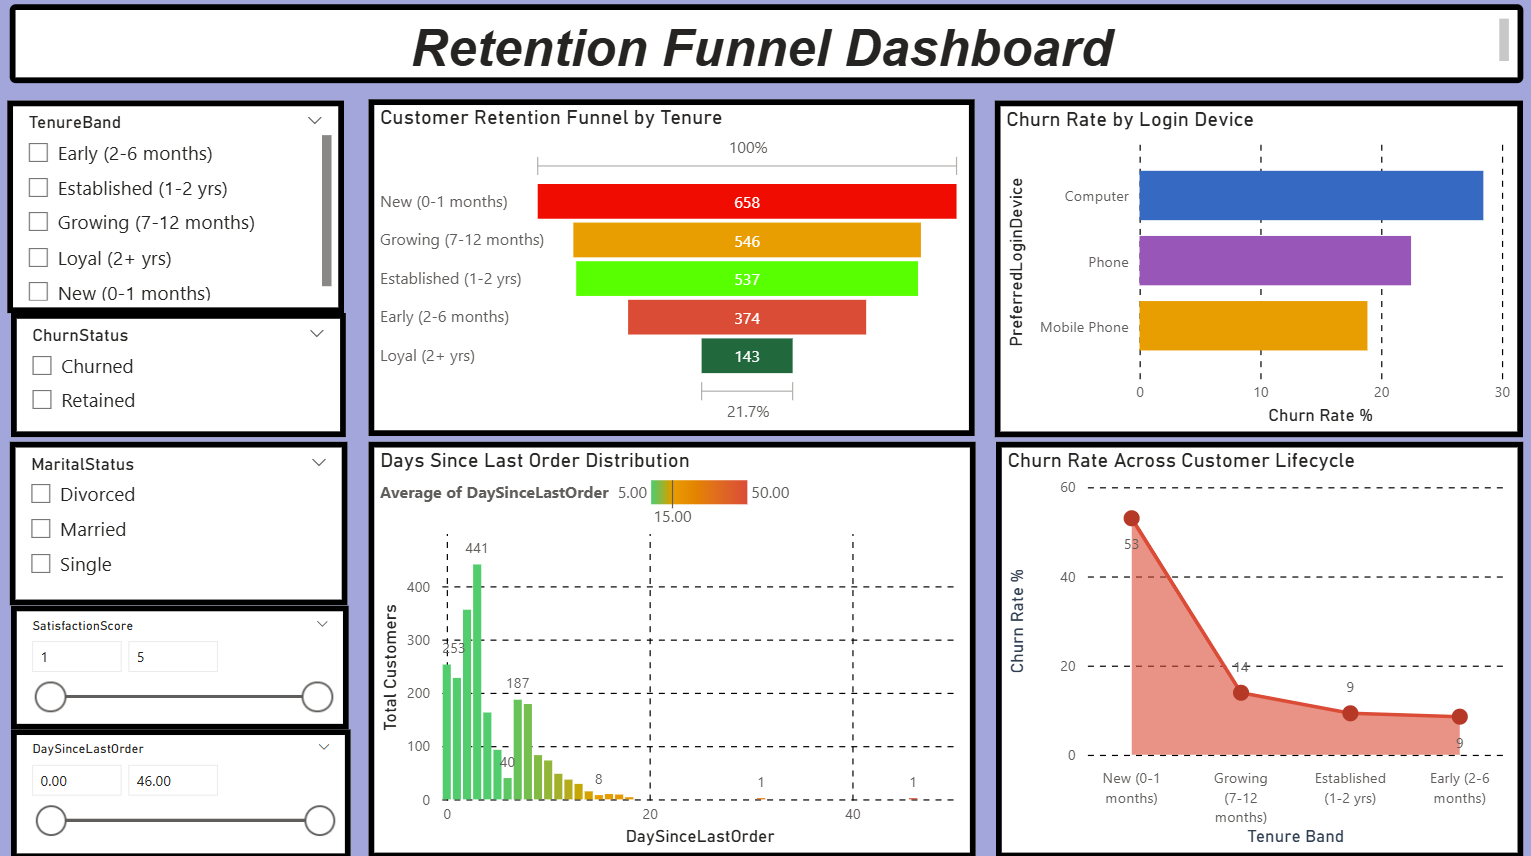

This screenshot's page, from the dashboard's own definition file:
{"tool":"powerbi","page":{"name":"Retention Funnel","canvas":[1280,720],"ordinal":1},"visuals":[{"type":"funnel","title":"Customer Retention Funnel by Tenure","fields":{"Category":["ecommerce.TenureBand"],"Y":["ecommerce.Total Customers"]},"box":[309.8,88.9,504.3,279.8],"z":0},{"type":"lineChart","title":"Churn Rate Across Customer Lifecycle","fields":{"Category":["ecommerce.TenureBand"],"Y":["ecommerce.Churn Rate %"]},"box":[831.4,373.3,438.4,346.5],"z":1000},{"type":"barChart","title":"Churn Rate by Login Device","fields":{"Category":["ecommerce.PreferredLoginDevice"],"Y":["ecommerce.Churn Rate %"]},"box":[830.2,89.2,439.1,279.9],"z":2000},{"type":"slicer","fields":{"Values":["ecommerce.TenureBand"]},"box":[9.7,89,279.7,176.7],"z":3000},{"type":"slicer","fields":{"Values":["ecommerce.ChurnStatus"]},"box":[12.5,265.7,278.3,103],"z":4000},{"type":"slicer","fields":{"Values":["ecommerce.MaritalStatus"]},"box":[11.1,372.9,281,136.3],"z":5000},{"type":"textbox","box":[11,9.6,1258.3,65.9],"z":6000},{"type":"slicer","fields":{"Values":["ecommerce.SatisfactionScore"]},"box":[12.5,509.2,281,103],"z":7000},{"type":"slicer","fields":{"Values":["ecommerce.DaySinceLastOrder"]},"box":[12.8,611.6,282.6,108.1],"z":8000},{"type":"clusteredColumnChart","title":"Days Since Last Order Distribution","fields":{"Category":["ecommerce.DaySinceLastOrder"],"Y":["ecommerce.Total Customers"]},"box":[309.3,373.3,504.7,346.5],"z":10000}]}

Visuals, with their boxes in screenshot pixels (x1, y1, x2, y2), scaled from the page's 1280x720 canvas onto the 1531x856 screenshot:
"Customer Retention Funnel by Tenure" funnel: locate(371, 106, 974, 438)
"Churn Rate Across Customer Lifecycle" lineChart: locate(994, 444, 1519, 855)
"Churn Rate by Login Device" barChart: locate(993, 106, 1518, 439)
slicer - ecommerce.TenureBand: locate(12, 106, 346, 316)
slicer - ecommerce.ChurnStatus: locate(15, 316, 348, 438)
slicer - ecommerce.MaritalStatus: locate(13, 443, 349, 605)
textbox: locate(13, 11, 1518, 90)
slicer - ecommerce.SatisfactionScore: locate(15, 605, 351, 728)
slicer - ecommerce.DaySinceLastOrder: locate(15, 727, 353, 855)
"Days Since Last Order Distribution" clusteredColumnChart: locate(370, 444, 974, 855)
